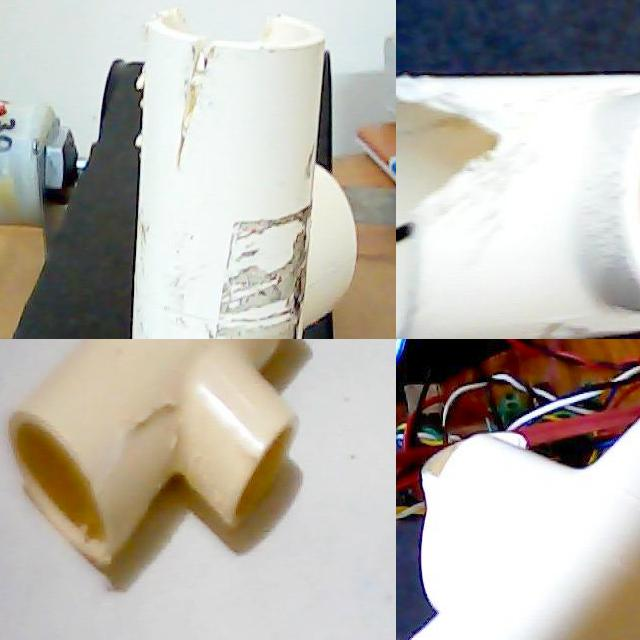Defective: (396, 81, 542, 215), (102, 376, 188, 546), (218, 206, 311, 339), (157, 0, 304, 69), (176, 35, 220, 187), (396, 223, 429, 271), (618, 210, 640, 275)
T Joint: (130, 10, 357, 339), (9, 339, 295, 569), (396, 76, 640, 339), (409, 416, 640, 640)
